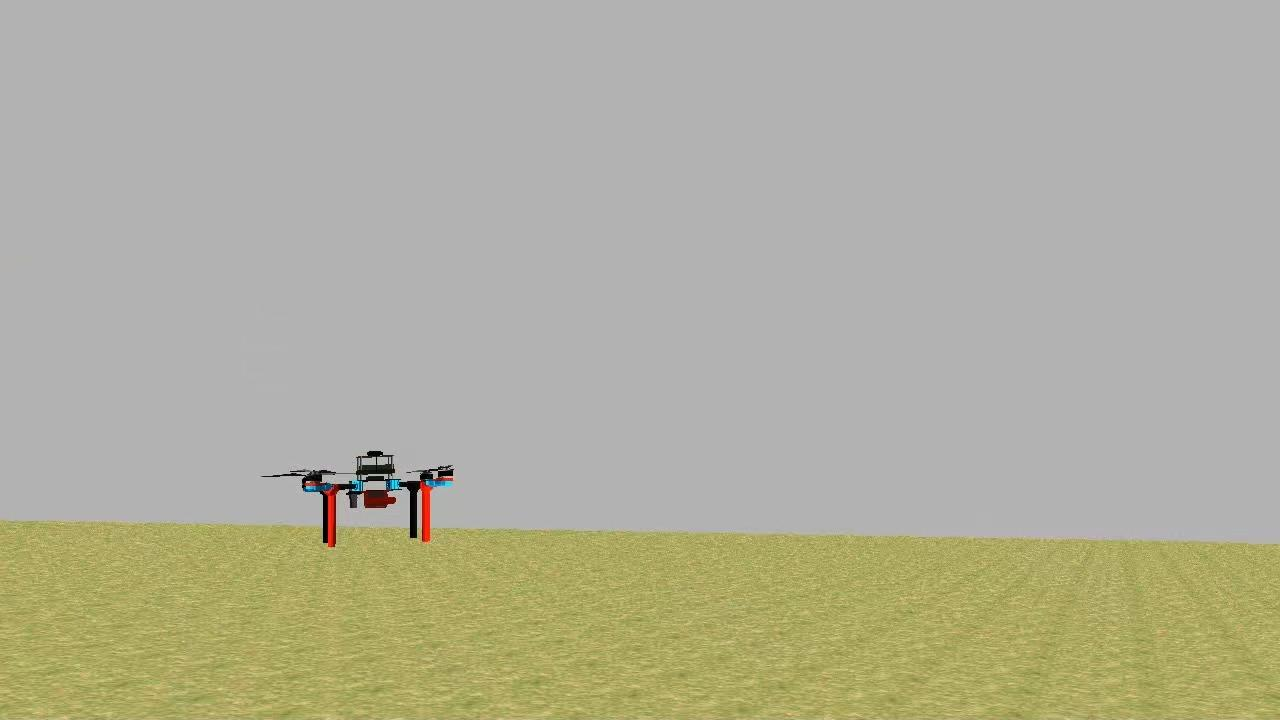UAV: (298, 444, 462, 550)
